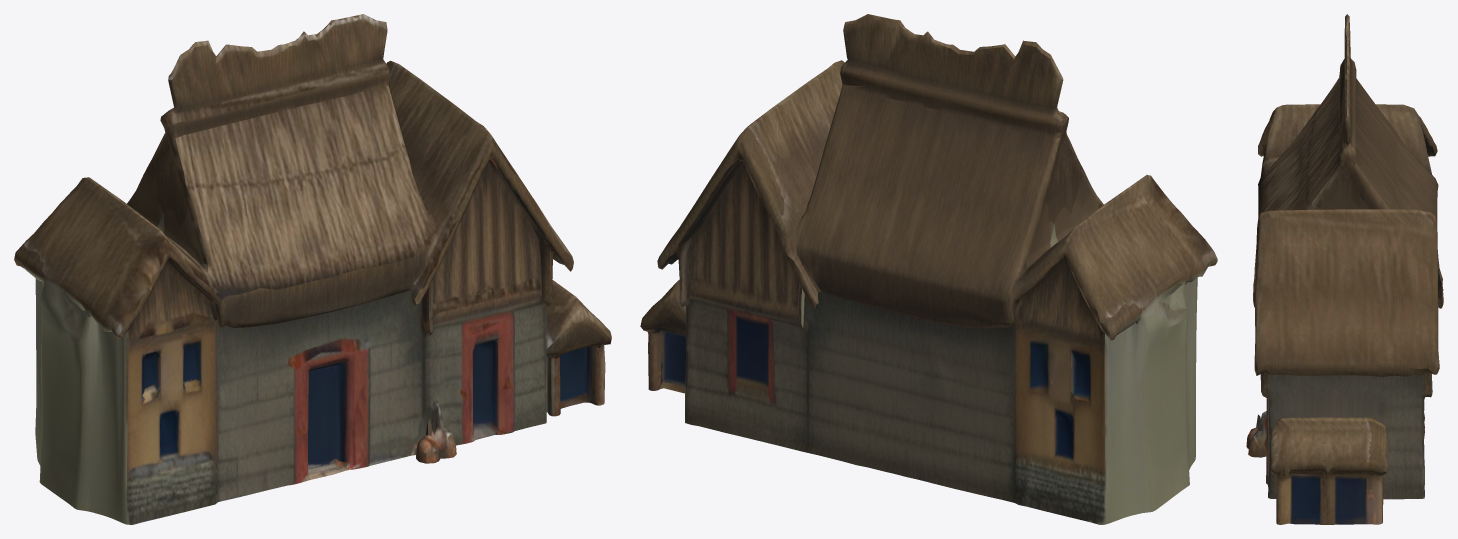
The model's file is palmares_pacto_cucau.glb.
3 renders of one model, left to right at view 1: azimuth 30°, elevation 25°; view 2: azimuth 150°, elevation 25°; view 3: azimuth 270°, elevation 25°, orthographic. The views are drawn at different scales.
Parts seen in each view (by area): view 1: geometry_0; view 2: geometry_0; view 3: geometry_0.
Part boxes in pixels (left/top/right/bottom): geometry_0: left=14, top=14, right=611, bottom=524; geometry_0: left=640, top=14, right=1217, bottom=524; geometry_0: left=1246, top=14, right=1443, bottom=524.
Size of the model in its own units: 3.4 by 2.68 by 1.34.
1 material, 1 textured.
